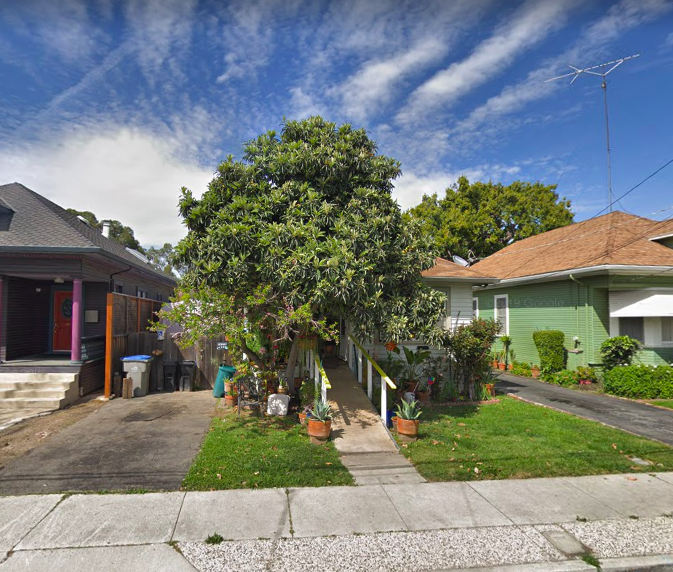tree: (145, 115, 448, 411)
